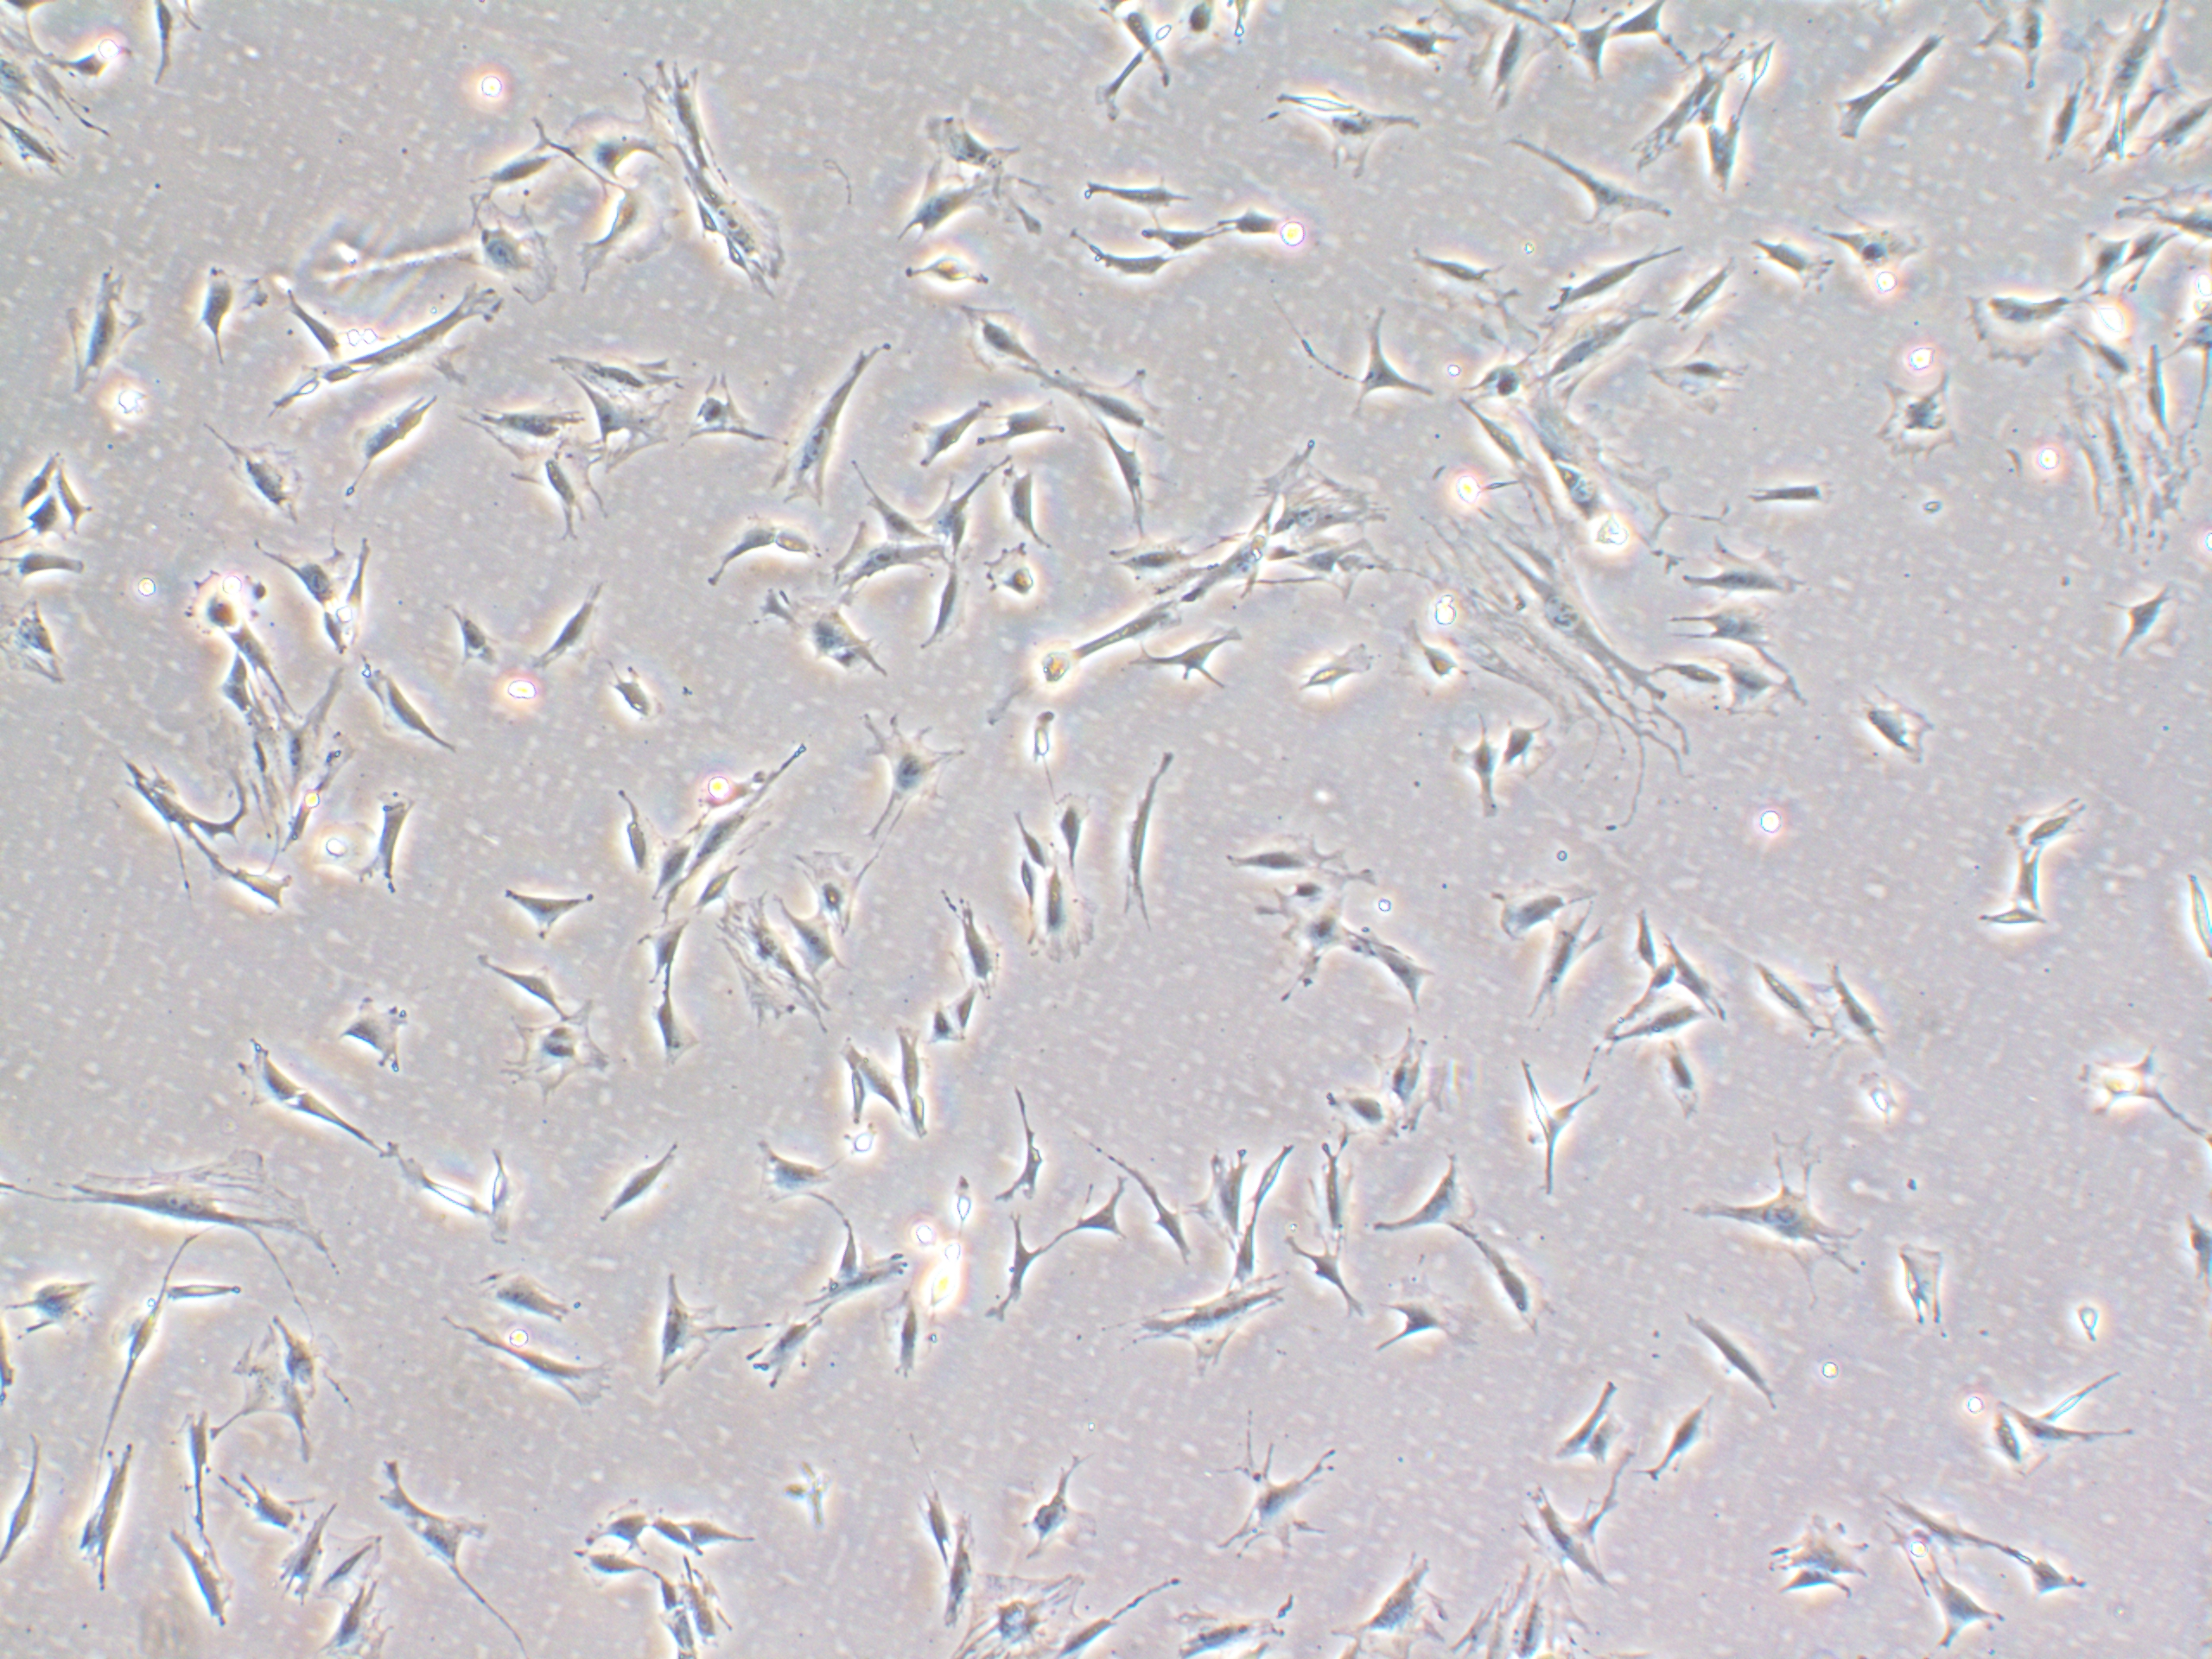small: (1958, 892, 2087, 960), (1832, 1054, 1921, 1138), (972, 533, 1055, 617), (2059, 1269, 2128, 1352), (827, 1121, 900, 1173), (937, 1164, 984, 1236), (1019, 706, 1064, 777), (1026, 638, 1075, 704), (902, 1209, 939, 1263)
spread: (1423, 519, 1683, 763), (54, 1138, 387, 1272), (2033, 368, 2205, 594), (1656, 1148, 1869, 1298), (1507, 389, 1679, 563), (1263, 432, 1404, 606), (200, 692, 355, 843), (1864, 343, 1975, 516), (700, 901, 843, 1035), (843, 695, 972, 840), (686, 162, 824, 295), (937, 1554, 1103, 1659), (482, 999, 632, 1114), (564, 188, 707, 291), (545, 89, 676, 200), (1959, 272, 2095, 366)
